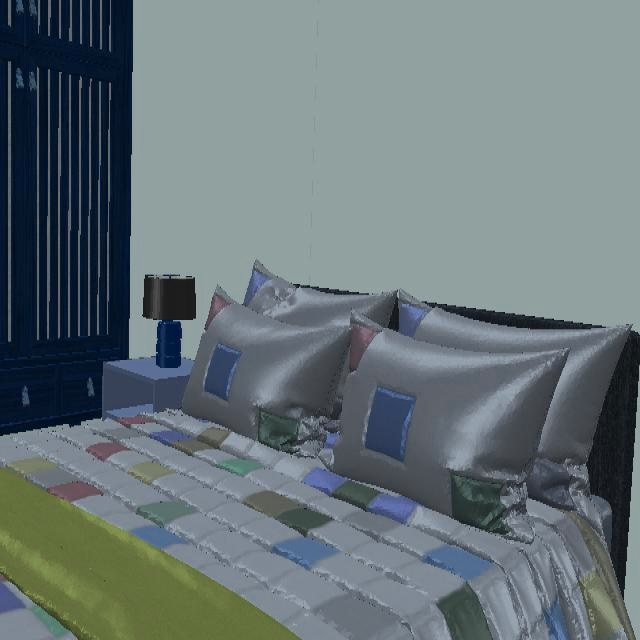bed: (0, 261, 640, 640)
lamp: (142, 275, 198, 367)
nighttable: (103, 357, 190, 413)
pillow: (183, 263, 631, 543)
